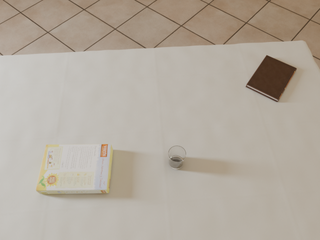book: (246, 55, 297, 102)
box: (36, 144, 113, 194)
cup: (169, 146, 186, 169)
